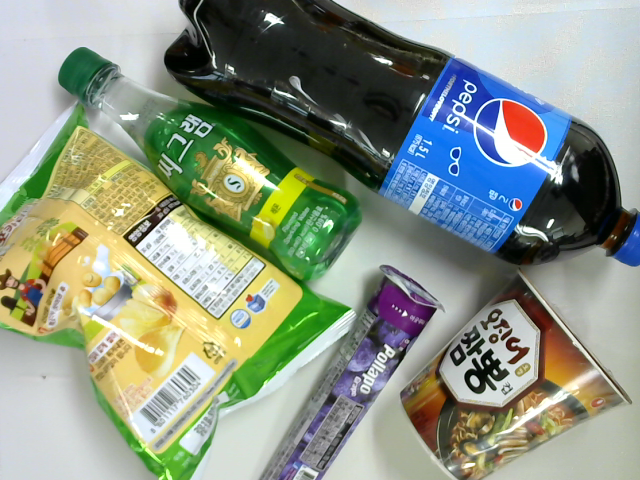Ojjam: (400, 266, 638, 480)
Pepsi_Cola_1.5L: (162, 1, 640, 269)
Pocachip_Onion: (1, 92, 363, 480)
Polapo_Grape: (255, 264, 449, 480)
Seagram_Lemon_Carbonated_Water: (58, 45, 363, 286)
